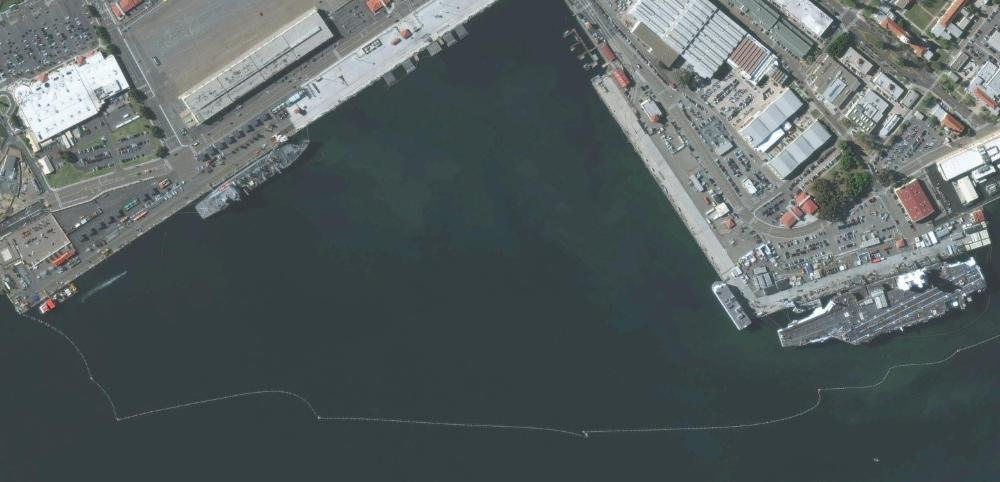tender: (195, 131, 314, 229)
